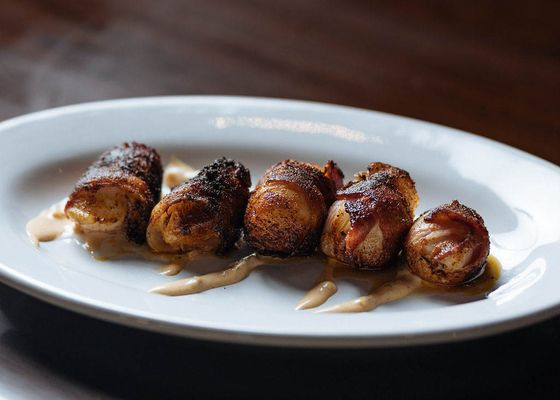curry: (1, 2, 560, 392)
salad: (319, 162, 419, 271), (146, 157, 252, 256), (243, 158, 337, 256), (403, 199, 490, 288)
